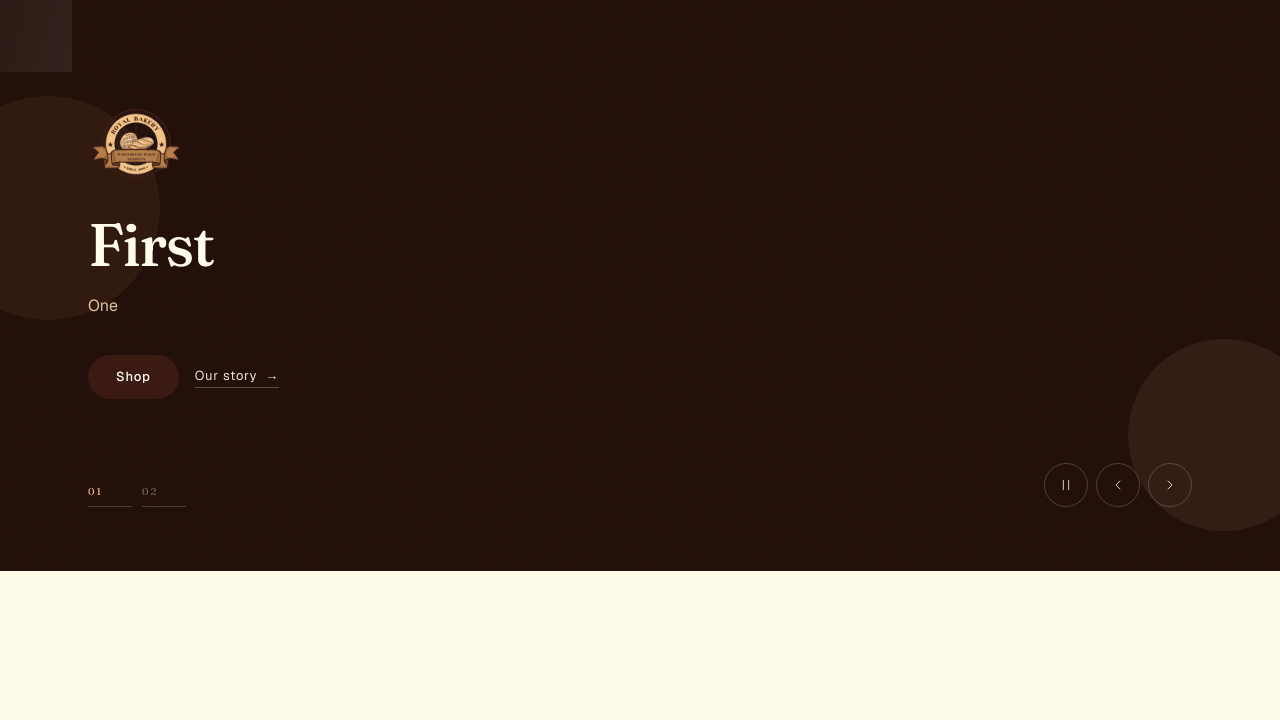
Test case: pauses autoplay while focus stays in the hero and exposes a touch-sized pause control
Focus the tab named "Go to slide 2" at (164, 485), box [142,463,186,507]
Click the button named "Pause auto-advance" at (1066, 485), box [1044,463,1088,507]
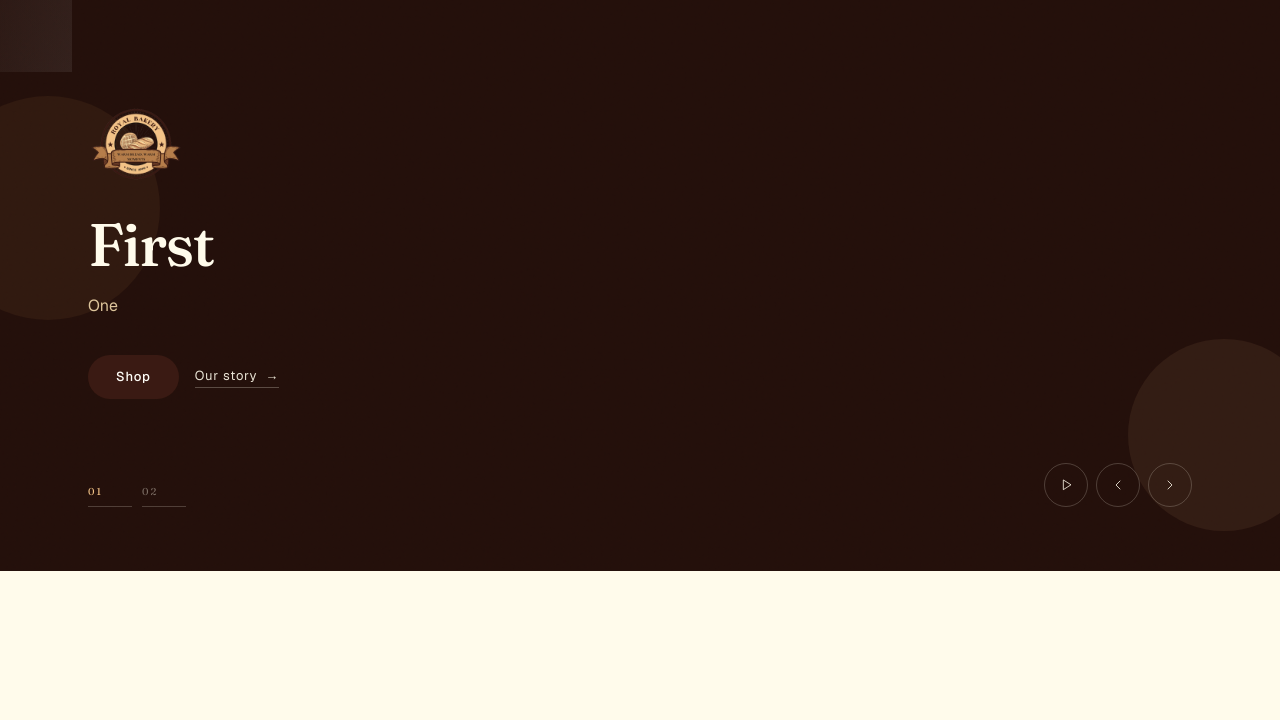
expect the button named "Resume auto-advance" is shown: met, box [1044,463,1088,507]
